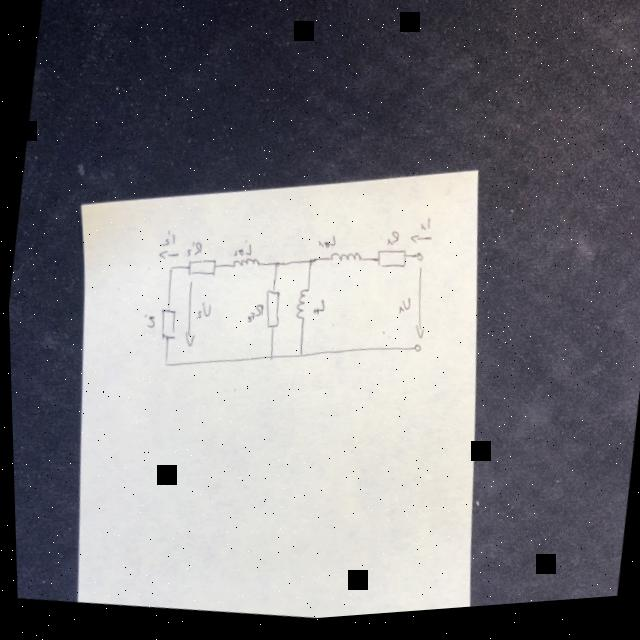inductor: (326, 252, 360, 270), (292, 290, 308, 325), (229, 257, 259, 275)
junction: (270, 263, 278, 273), (304, 260, 312, 270), (165, 265, 173, 274), (160, 359, 167, 369), (295, 354, 302, 363), (264, 356, 271, 365)
resistor: (372, 250, 406, 278), (259, 291, 281, 334), (184, 257, 216, 282), (155, 309, 176, 343)
terminal: (410, 255, 421, 267), (409, 347, 420, 359)
text: (230, 240, 251, 262), (244, 304, 262, 328), (158, 229, 175, 251), (314, 237, 334, 254), (193, 303, 209, 324), (138, 313, 154, 332), (183, 242, 199, 261), (383, 235, 398, 254), (395, 301, 409, 321), (309, 301, 323, 321), (417, 221, 429, 238)
